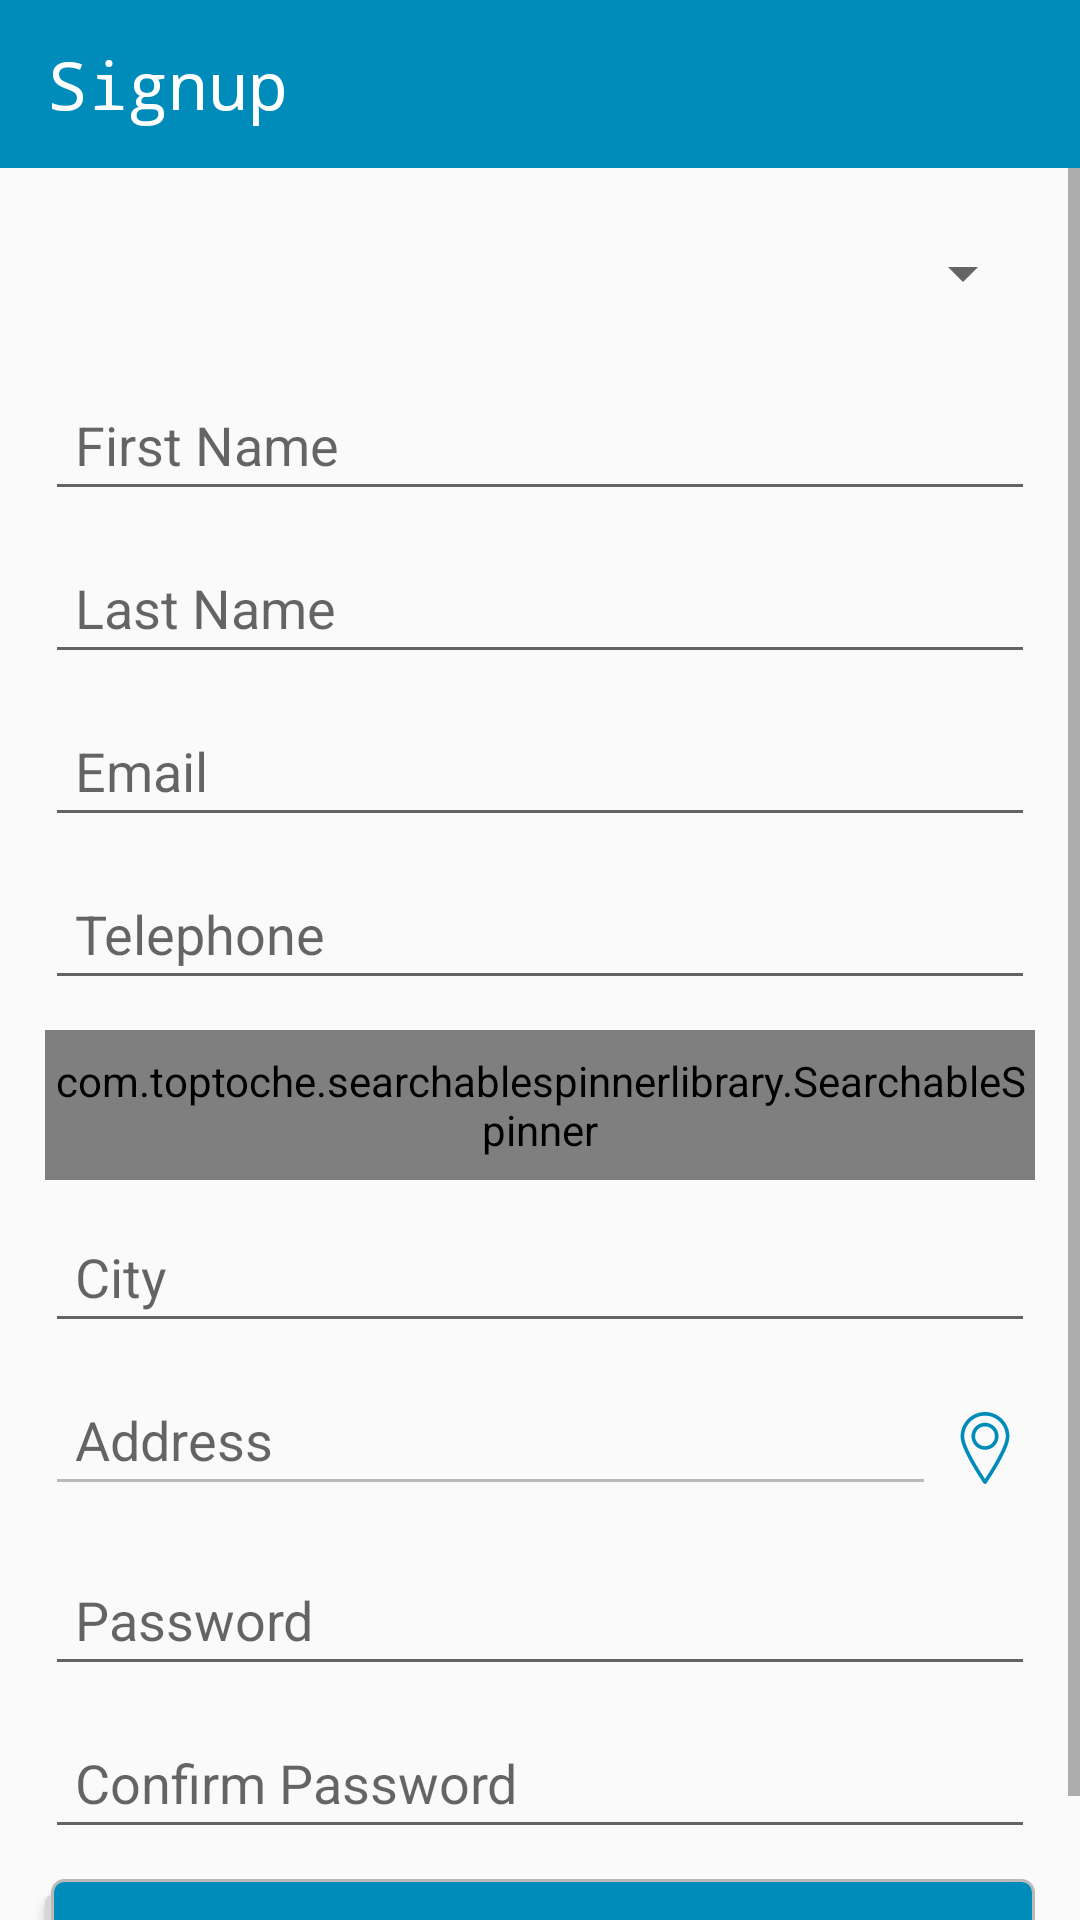

Where icons sit on this 1080×1920 app screen, as (x1, y1, x2, y2):
location: (960, 1412, 1010, 1484)
